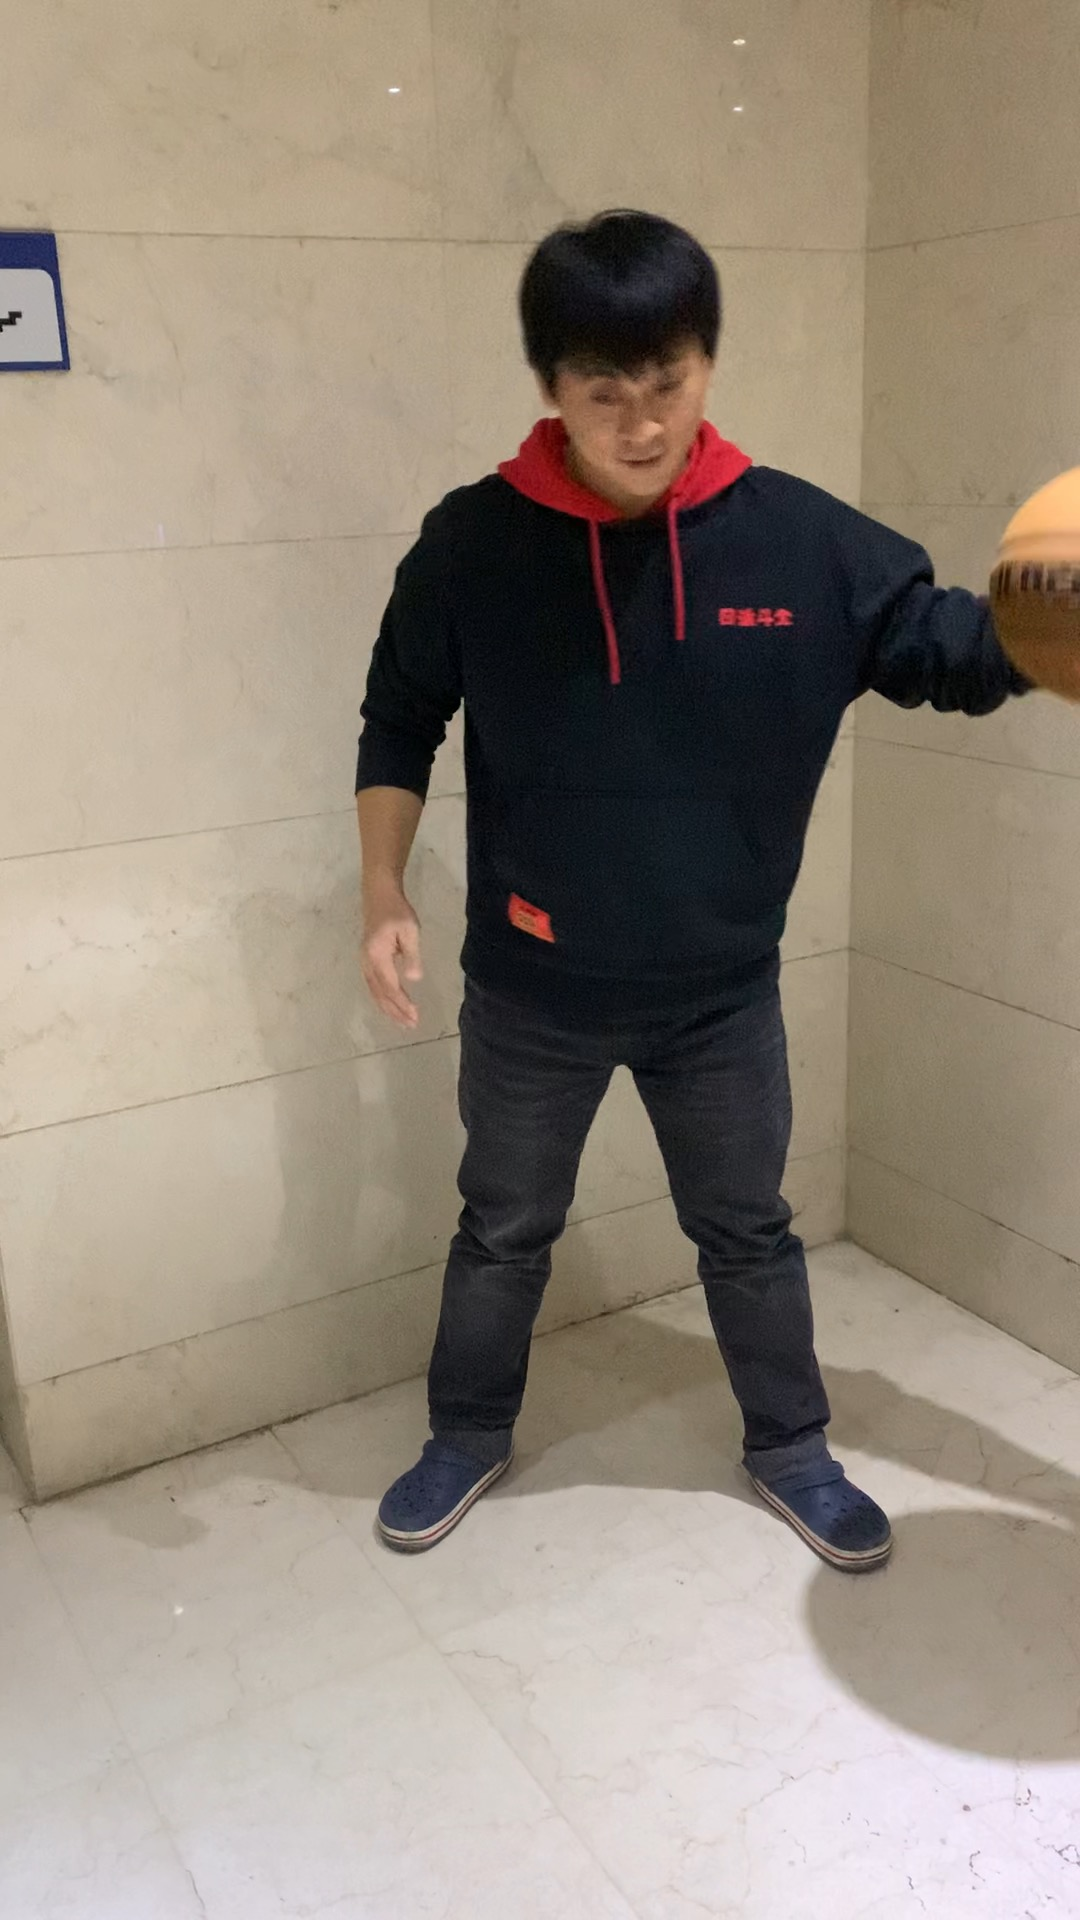ball: (981, 450, 1080, 719)
